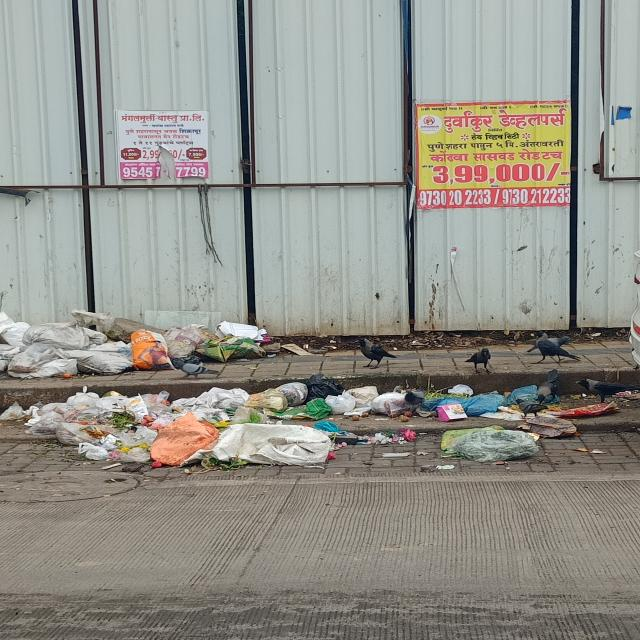garbage: (12, 390, 596, 469), (0, 313, 306, 384)
